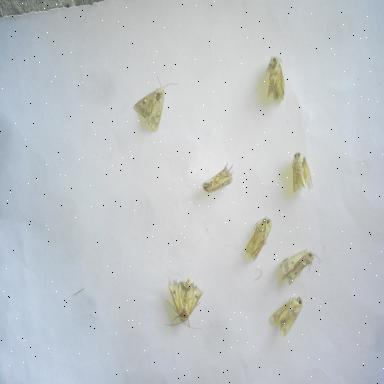abw: (130, 68, 182, 136), (158, 278, 206, 336), (273, 246, 325, 288), (264, 292, 304, 340), (242, 208, 276, 262), (260, 53, 288, 109), (196, 157, 236, 196), (286, 147, 318, 195)
